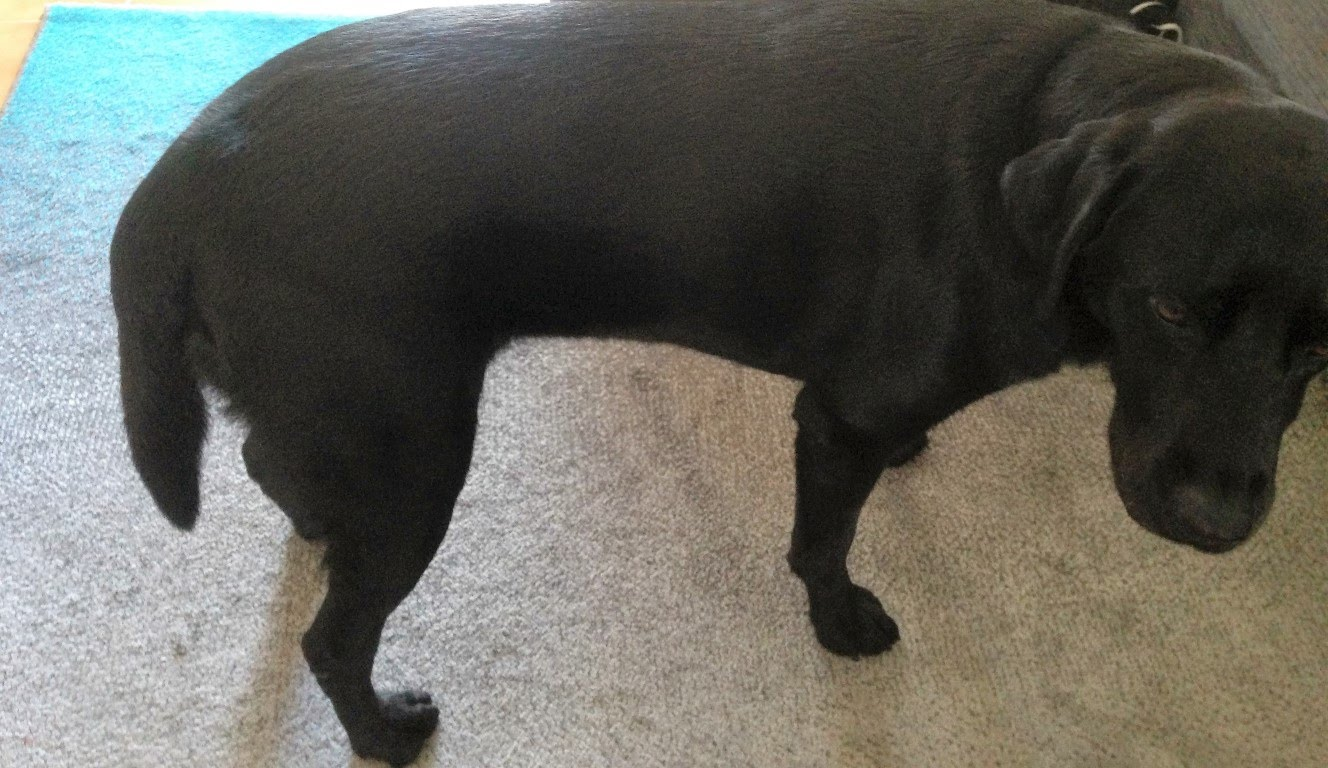tail: (106, 219, 223, 541)
